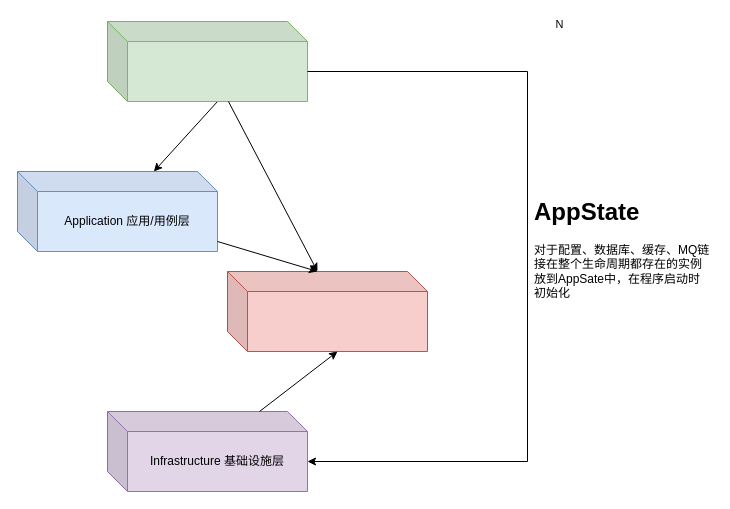
Image size: 730x509. Some labels were removed from this diagram. The box of each missing label's shape, as (x1, y1, x2, y2) in pixels:
Domain 领域层: (226, 270, 428, 352)
Interface用户界面层: (106, 20, 308, 102)
